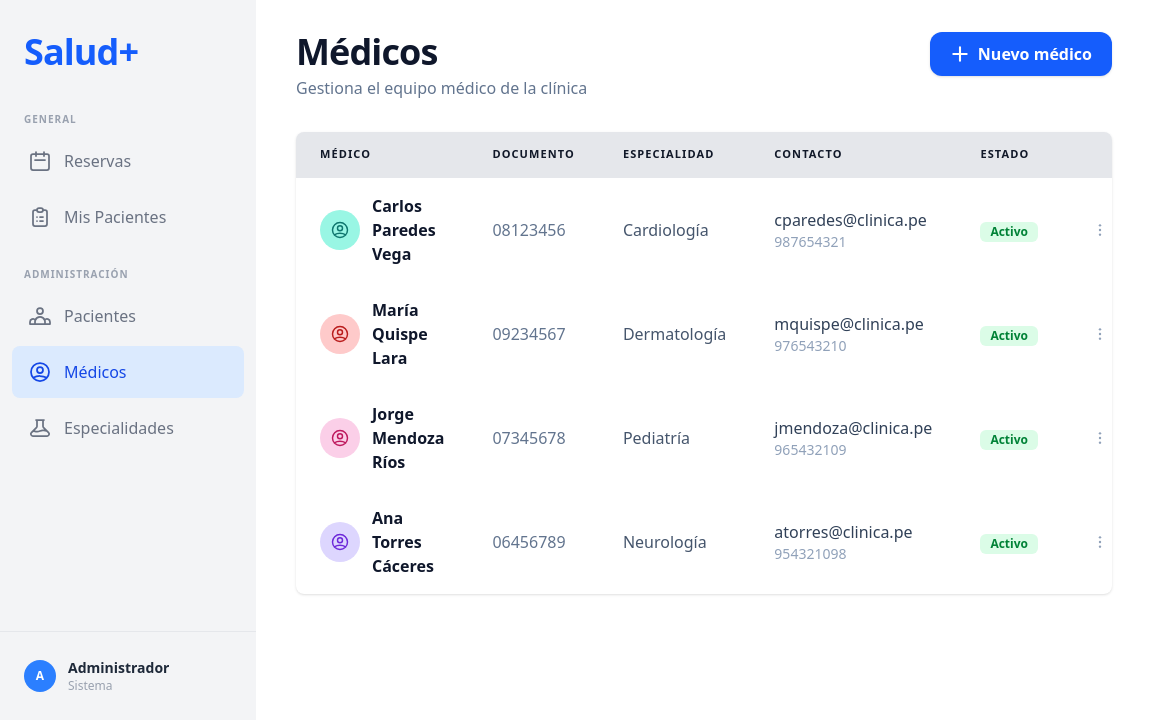
it: Admin · Gestión de médicos (RF08) › edita el teléfono de contacto de un médico
Click the button without text in the row of "09234567".
click(1100, 334)  # box 1086,320 -> 1114,348
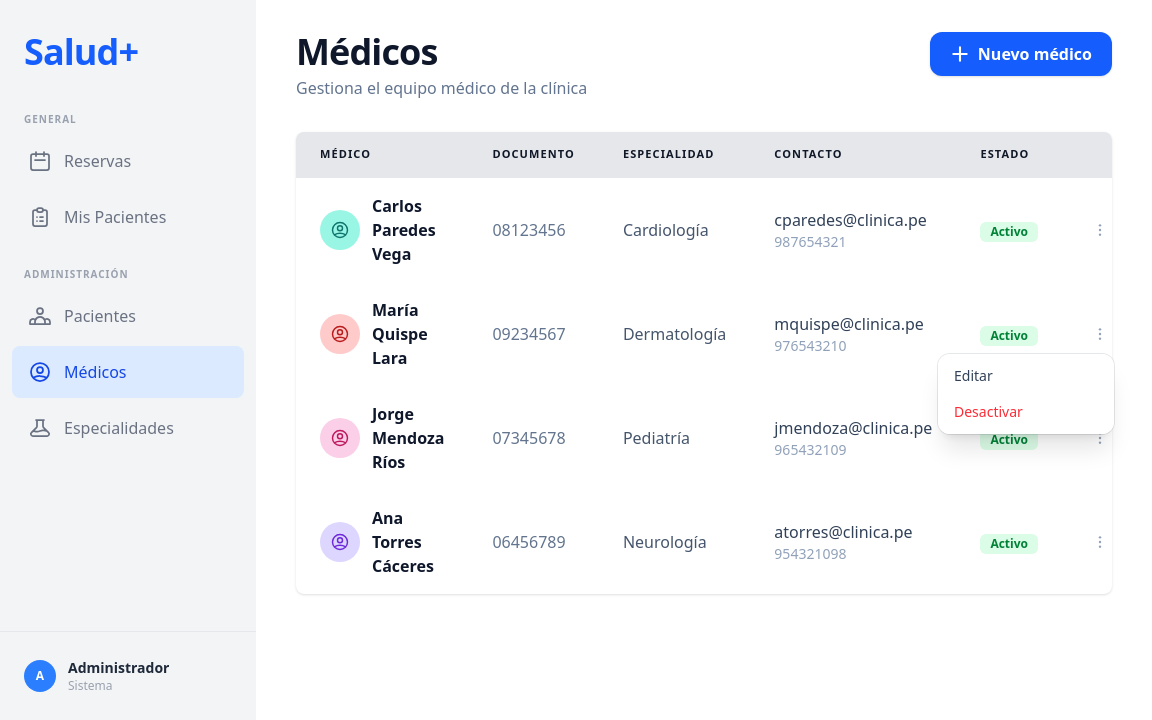
Click the button "Editar".
click(1026, 376)  # box 938,358 -> 1114,394
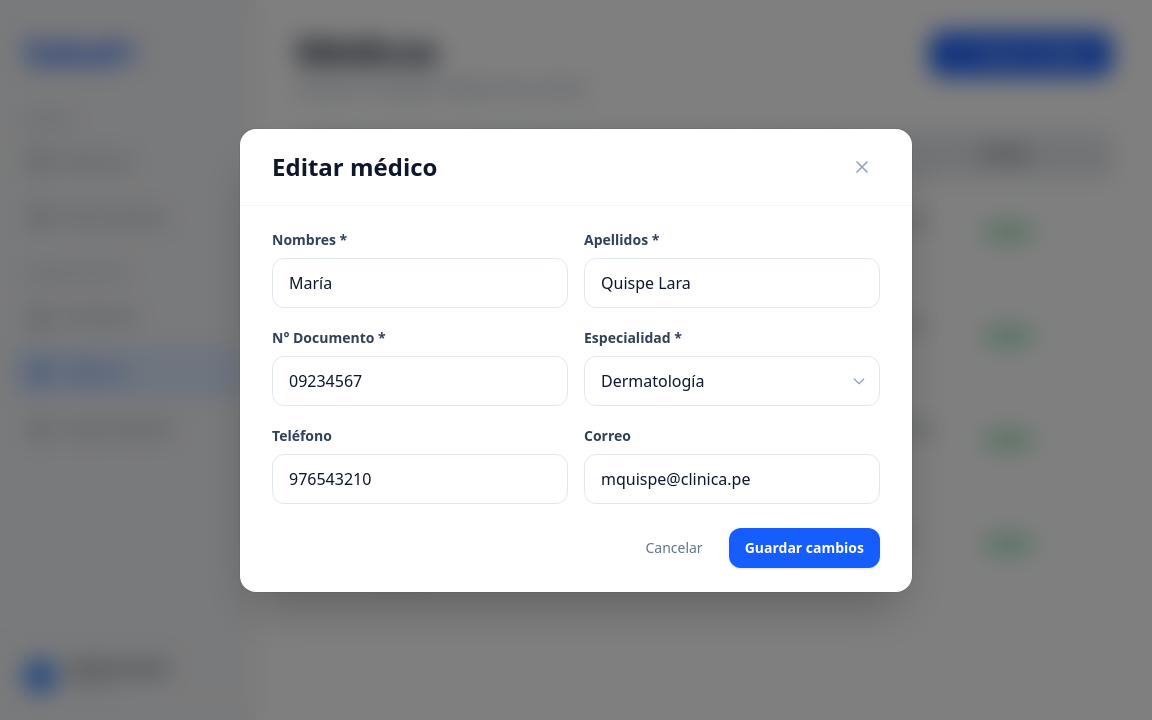
Replace the text in the field with placeholder "9XXXXXXXX" below "Teléfono" with "911000111" at [420, 479], box 272,454 -> 568,504
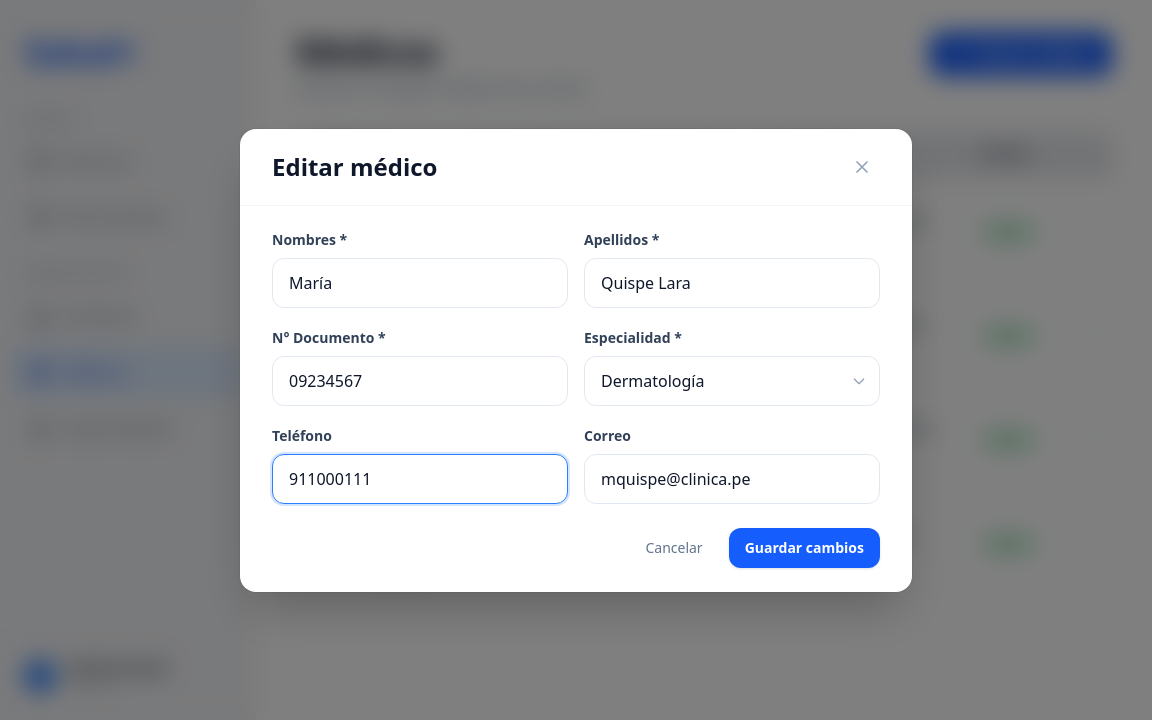
Click the button "Guardar cambios".
click(805, 548)  # box 729,528 -> 880,568
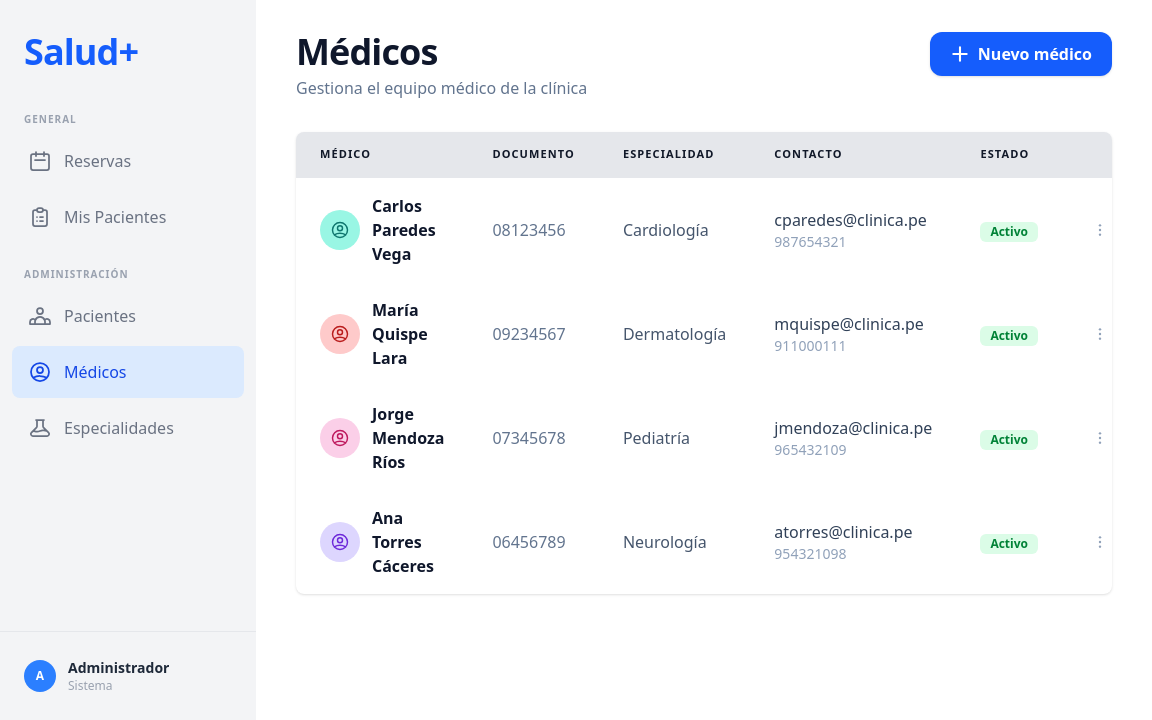
Now the text "911000111" is shown, box 774,336 -> 846,354
